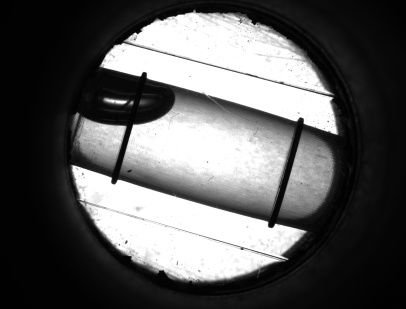line: (270, 140, 301, 207), (110, 132, 133, 165)
